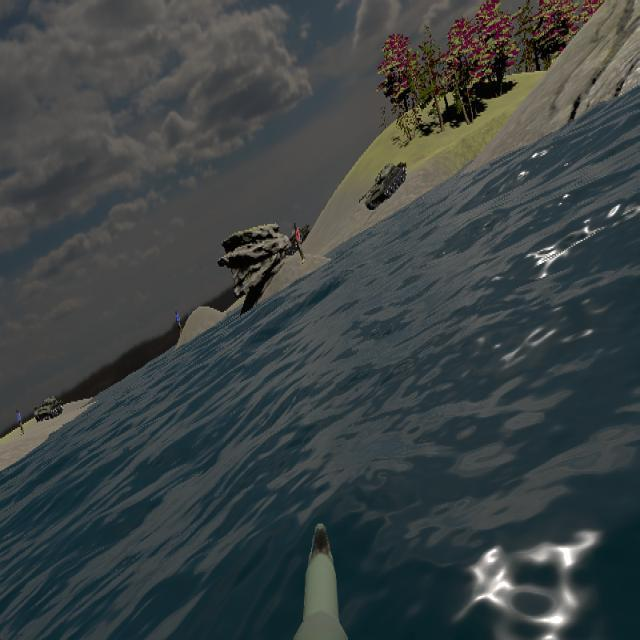Tank: (359, 160, 408, 211), (35, 394, 64, 423)
